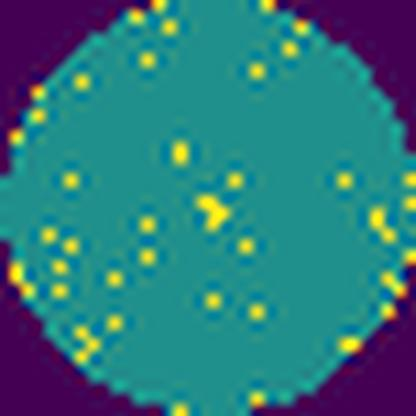Center: (191, 189, 237, 236)
